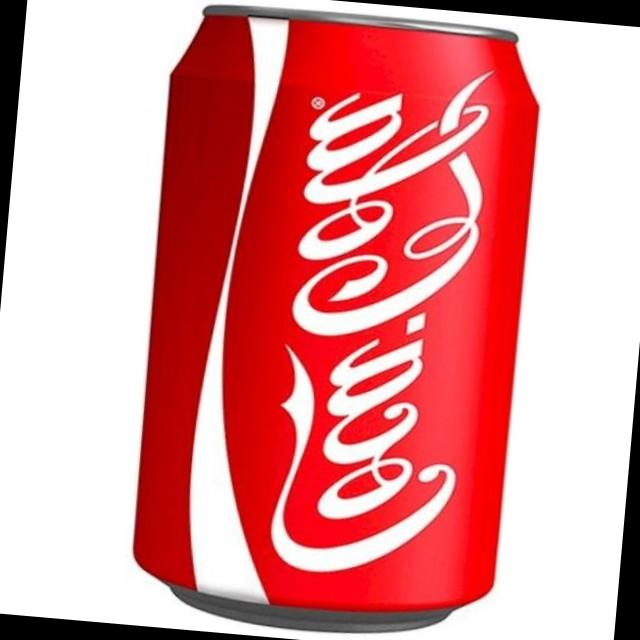cocacola: (137, 0, 550, 635)
